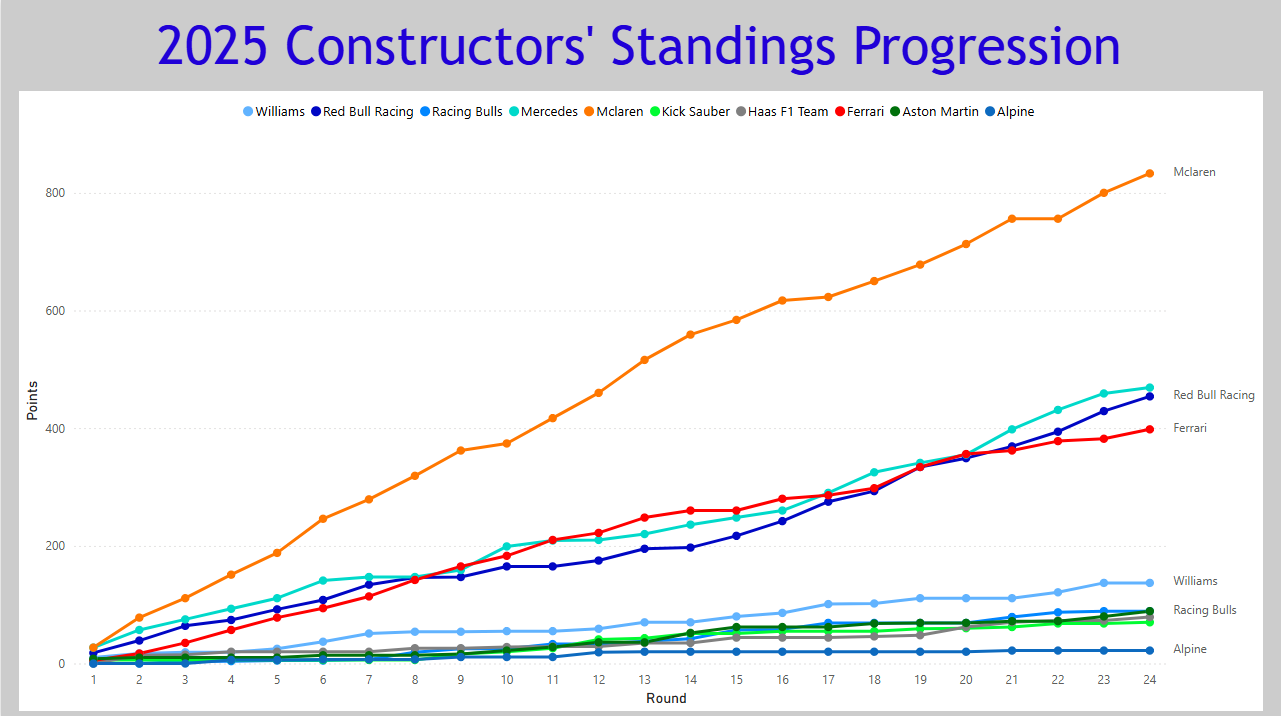

What the dashboard file says about the page in this screenshot:
{"tool":"powerbi","page":{"name":"Constructors' Standings Progression","canvas":[1280,720],"ordinal":5},"visuals":[{"type":"lineChart","fields":{"Category":["Races_2025.Track ID"],"Y":["Races_2025.Constructor Cumulative Points"],"Series":["Constructors_2025.Team Name"]},"box":[18.3,91.6,1243.4,620.4],"z":0},{"type":"textbox","box":[150.5,9.8,979,74.6],"z":1000}]}

Visuals, with their boxes in screenshot pixels (x1, y1, x2, y2), scaled from the page's 1280x720 canvas onto the 1281x716 screenshot:
lineChart - Races_2025.Track ID x Races_2025.Constructor Cumulative Points: crop(18, 91, 1263, 708)
textbox: crop(151, 10, 1130, 84)
